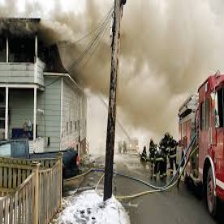smoke: (14, 7, 221, 75)
